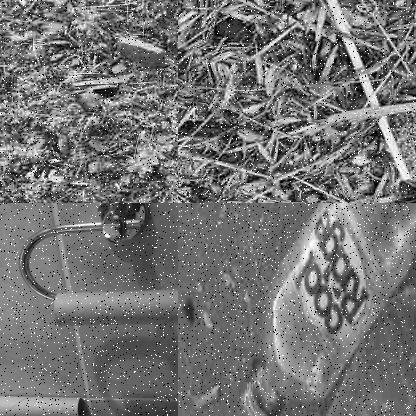cardboard: (50, 291, 177, 326), (0, 393, 97, 415)
plastic: (236, 203, 415, 415), (290, 0, 415, 186)
